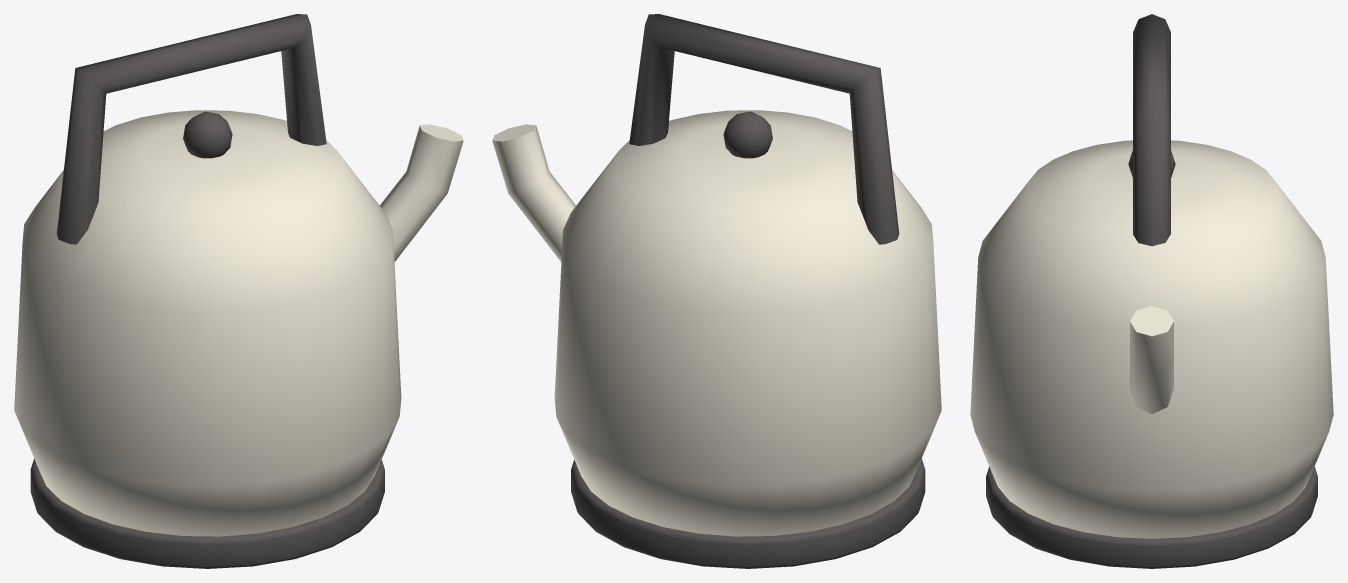
Rendered from vintage_electric_kettle.glb.
3 renders of one model, left to right at view 1: azimuth 30°, elevation 25°; view 2: azimuth 150°, elevation 25°; view 3: azimuth 270°, elevation 25°, orthographic. The views are drawn at different scales.
Parts seen in each view (by area): view 1: vintage_electric_kettle_body, vintage_electric_kettle_handle, vintage_electric_kettle_base, vintage_electric_kettle_spout, vintage_electric_kettle_knob; view 2: vintage_electric_kettle_body, vintage_electric_kettle_handle, vintage_electric_kettle_base, vintage_electric_kettle_spout, vintage_electric_kettle_knob; view 3: vintage_electric_kettle_body, vintage_electric_kettle_base, vintage_electric_kettle_handle, vintage_electric_kettle_spout.
Part boxes in pixels (box(x1,y1,x2,y2)): vintage_electric_kettle_body: box(14, 110, 401, 536); vintage_electric_kettle_handle: box(56, 14, 326, 244); vintage_electric_kettle_base: box(30, 458, 384, 568); vintage_electric_kettle_spout: box(380, 124, 463, 261); vintage_electric_kettle_knob: box(183, 111, 232, 158); vintage_electric_kettle_body: box(554, 110, 941, 536); vintage_electric_kettle_handle: box(629, 14, 899, 244); vintage_electric_kettle_base: box(571, 458, 925, 568); vintage_electric_kettle_spout: box(492, 124, 575, 261); vintage_electric_kettle_knob: box(723, 111, 772, 158); vintage_electric_kettle_body: box(970, 140, 1333, 538); vintage_electric_kettle_base: box(986, 466, 1317, 568); vintage_electric_kettle_handle: box(1133, 14, 1170, 246); vintage_electric_kettle_spout: box(1130, 306, 1173, 413).
Size of the model in its own units: 0.2883 by 0.2989 by 0.23.
